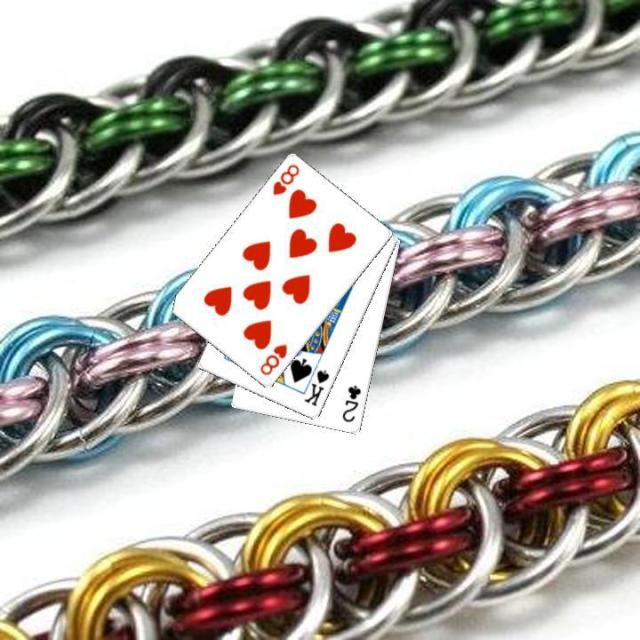2C: (338, 381, 362, 424)
8H: (256, 340, 289, 378), (268, 161, 302, 197)
KS: (300, 366, 332, 408)
